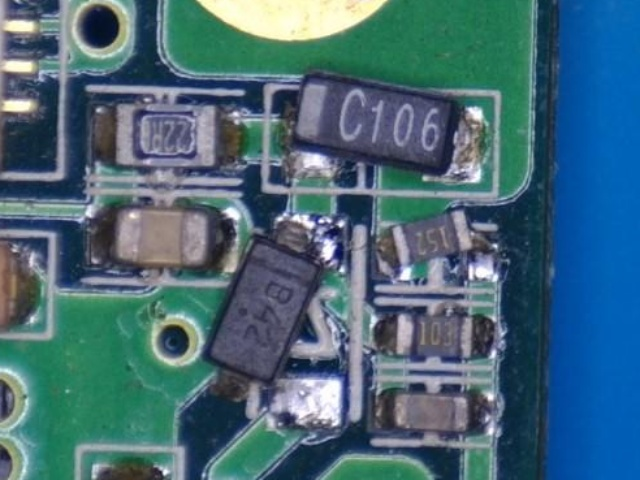pcb_defect: (203, 213, 349, 430), (281, 73, 483, 182), (377, 208, 498, 283)
